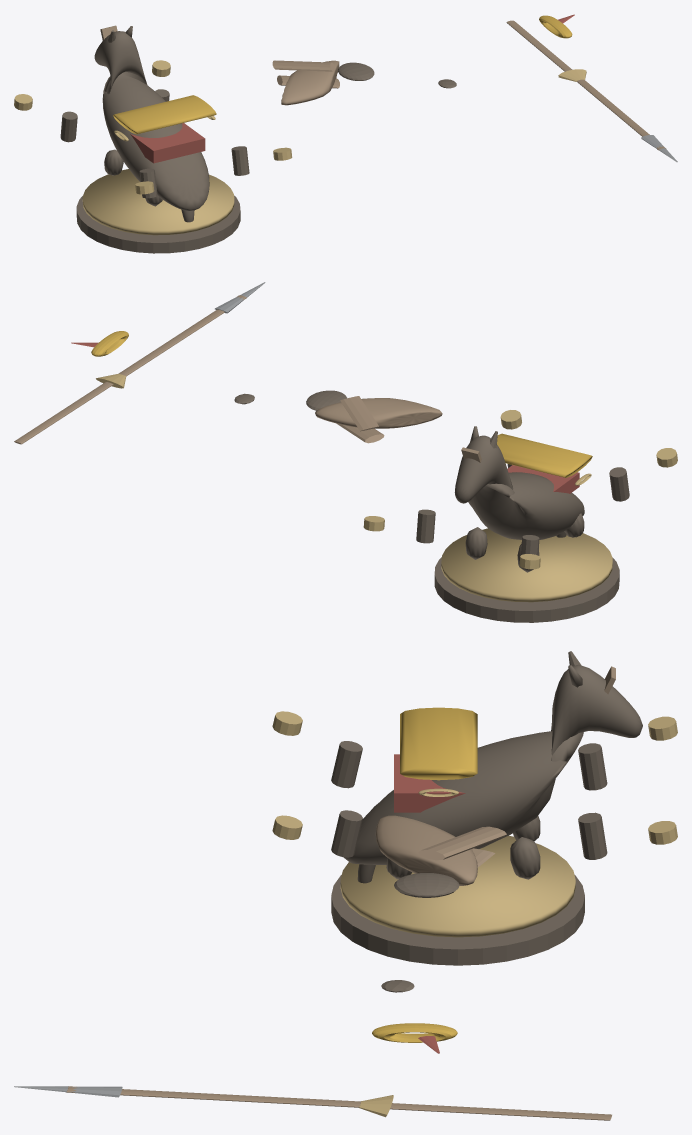
The picture shows the model from 3 angles, top to bottom: view 1: azimuth 30°, elevation 25°; view 2: azimuth 150°, elevation 25°; view 3: azimuth 270°, elevation 25°; orthographic projection. The views are drawn at different scales.
Parts seen in each view (by area): view 1: Horse_Body, Plinth_GoldRim, Plinth_Stone, Rider_Thighs, Horse_SaddleCloth, Rider_Torso, Cavalry_Lance, Rider_LeftArm, Rider_Head, Horse_BR_Lower, Horse_FL_Lower, Rider_Turban (+1 smaller); view 2: Plinth_GoldRim, Horse_Body, Plinth_Stone, Rider_Thighs, Rider_Torso, Cavalry_Lance, Rider_LeftArm, Horse_SaddleCloth, Horse_FR_Lower, Horse_BL_Lower, Horse_FR_Upper, Rider_Turban (+1 smaller); view 3: Horse_Body, Plinth_GoldRim, Plinth_Stone, Rider_Thighs, Rider_Torso, Cavalry_Lance, Horse_SaddleCloth, Rider_LeftArm, Rider_Head, Rider_Turban, Horse_FL_Lower, Horse_BR_Lower (+3 smaller).
Boxes of the visible parts, x1,y1,x2,y2 form: Horse_Body: (94,31,209,210); Plinth_GoldRim: (82,169,234,235); Plinth_Stone: (76,195,240,253); Rider_Thighs: (113,95,216,134); Horse_SaddleCloth: (130,123,205,163); Rider_Torso: (281,60,339,105); Cavalry_Lance: (506,20,666,150); Rider_LeftArm: (272,60,335,71); Rider_Head: (338,62,374,80); Horse_BR_Lower: (231,146,249,175); Horse_FL_Lower: (60,111,77,142); Rider_Turban: (539,15,572,38); Plinth_GoldRim: (441,528,612,602); Horse_Body: (454,435,584,539); Plinth_Stone: (434,557,619,622); Rider_Thighs: (497,433,592,477); Rider_Torso: (315,398,442,428); Cavalry_Lance: (14,295,246,444); Rider_LeftArm: (340,396,379,431); Horse_SaddleCloth: (507,465,579,493); Horse_FR_Lower: (416,509,435,543); Horse_BL_Lower: (609,467,629,501); Horse_FR_Upper: (465,527,487,559); Rider_Turban: (91,331,128,356); Horse_Body: (344,664,642,864); Plinth_GoldRim: (340,835,575,937); Plinth_Stone: (331,874,584,965); Rider_Thighs: (400,707,477,780); Rider_Torso: (375,815,477,885); Cavalry_Lance: (66,1086,611,1120); Horse_SaddleCloth: (394,754,465,812); Rider_LeftArm: (418,826,506,860); Rider_Head: (394,873,459,897); Rider_Turban: (372,1023,457,1042); Horse_FL_Lower: (578,743,607,790); Horse_BR_Lower: (331,810,362,857).
Bounding box in the file's own units: 2.33 × 0.7496 × 1.78.
